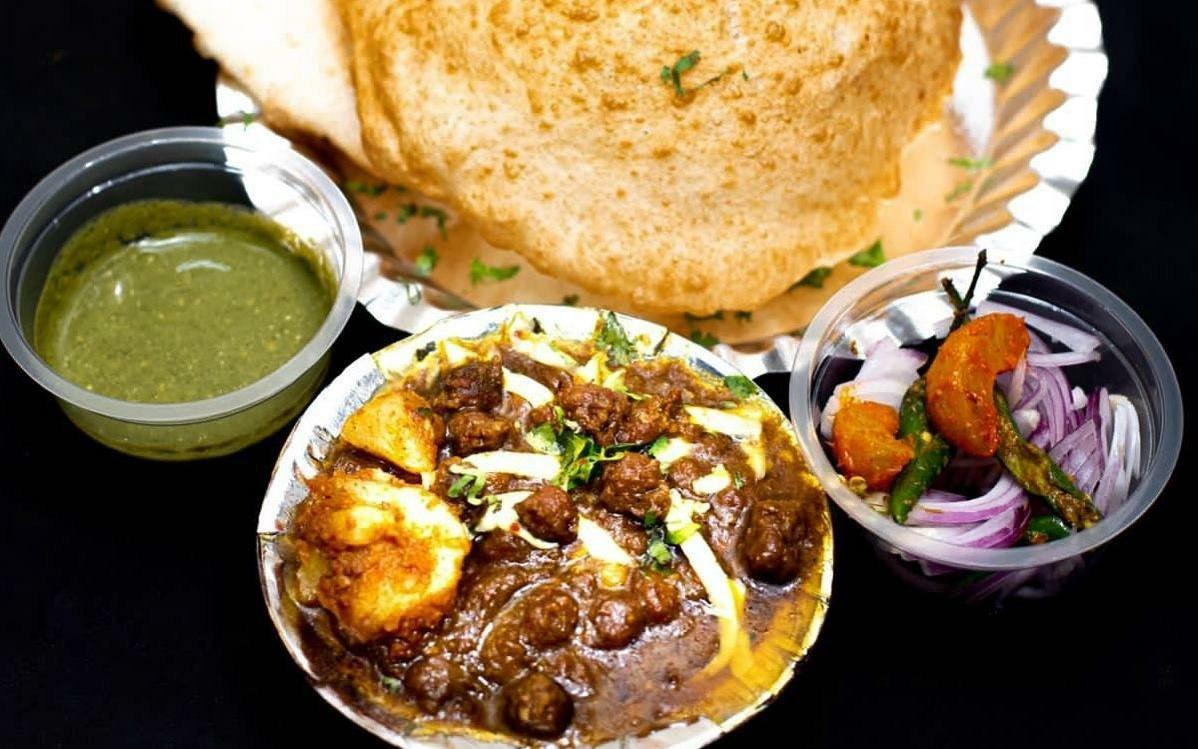Bhatura: (342, 0, 961, 313)
Chole: (303, 340, 808, 732)
